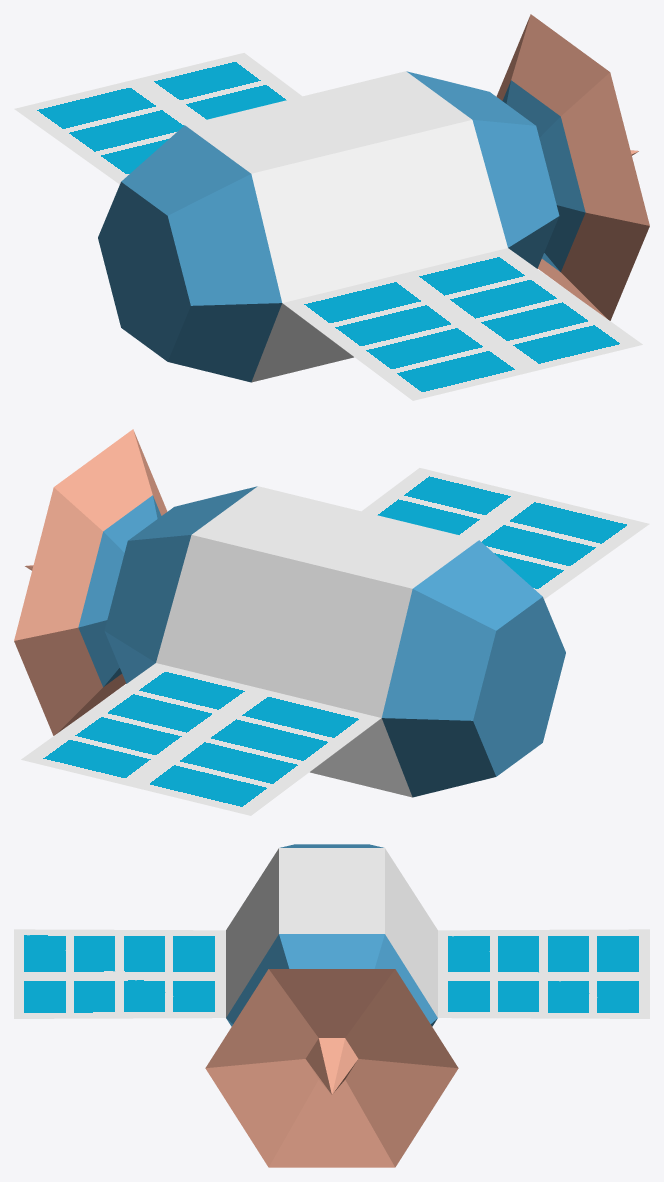
The model's file is satellite-1.glb.
The picture shows the model from 3 angles, top to bottom: view 1: azimuth 30°, elevation 25°; view 2: azimuth 150°, elevation 25°; view 3: azimuth 270°, elevation 25°; orthographic projection. The views are drawn at different scales.
Visible parts, largest first — view 1: Cylinder; view 2: Cylinder; view 3: Cylinder.
Part boxes in pixels (bbox=[...]): Cylinder: bbox=[14, 14, 649, 400]; Cylinder: bbox=[14, 429, 649, 815]; Cylinder: bbox=[14, 844, 649, 1167].
Bounding box in the file's own units: 4.3 × 2.07 × 6.
Materials: 1 (1 with a texture image).
